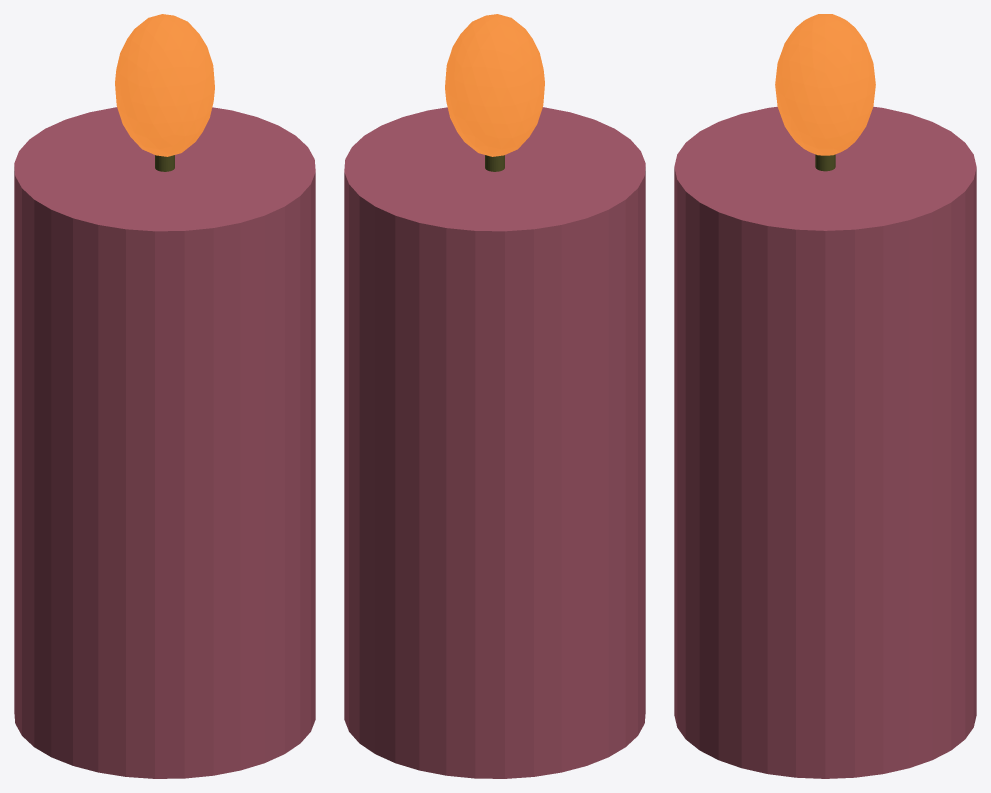
The picture shows the model from 3 angles, left to right: view 1: azimuth 30°, elevation 25°; view 2: azimuth 150°, elevation 25°; view 3: azimuth 270°, elevation 25°; orthographic projection.
Visible parts, largest first — view 1: Candle_Body, Flame; view 2: Candle_Body, Flame; view 3: Candle_Body, Flame.
Boxes of the visible parts, x1,y1,x2,y2 form: Candle_Body: (14, 107, 315, 778); Flame: (115, 14, 214, 156); Candle_Body: (344, 107, 645, 778); Flame: (445, 14, 544, 156); Candle_Body: (674, 106, 976, 778); Flame: (775, 14, 875, 155).
Size of what is drawn, in the model's own units: 0.3 by 0.765 by 0.3.
